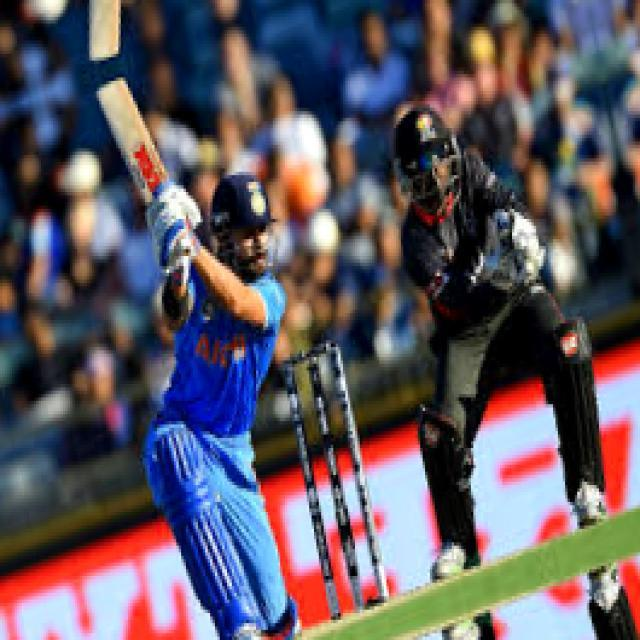bat: (89, 76, 174, 201)
